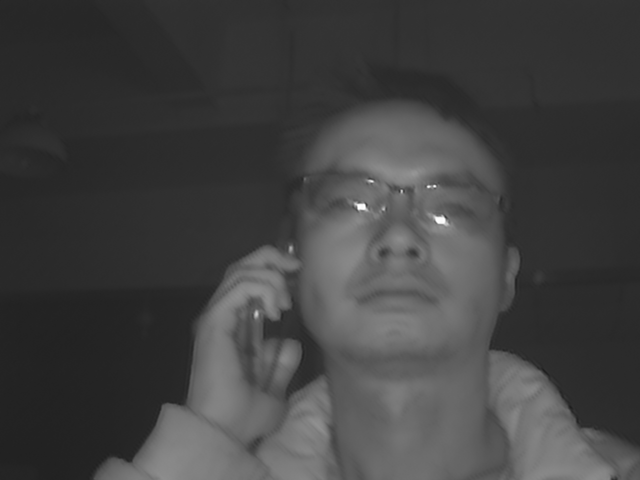hand: (180, 245, 305, 448)
